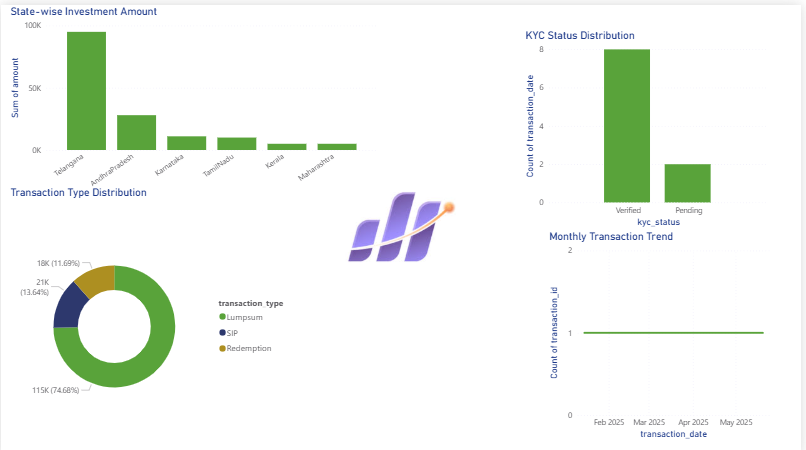

This screenshot's page, from the dashboard's own definition file:
{"tool":"powerbi","page":{"name":"Investor Analytics","canvas":[1280,720],"ordinal":2},"visuals":[{"type":"clusteredColumnChart","title":"State-wise Investment Amount","fields":{"Category":["investor_transactions_clean.state"],"Y":["Sum(investor_transactions_clean.amount)"]},"box":[10,0,598,328],"z":0},{"type":"donutChart","title":"Transaction Type Distribution","fields":{"Category":["investor_transactions_clean.transaction_type"],"Y":["Sum(investor_transactions_clean.amount)"]},"box":[10,290,462,430],"z":1000},{"type":"clusteredColumnChart","title":"KYC Status Distribution","fields":{"Category":["investor_transactions_clean.kyc_status"],"Y":["CountNonNull(investor_transactions_clean.transaction_date)"]},"box":[834,38,398,322],"z":2000},{"type":"lineChart","title":"Monthly Transaction Trend","fields":{"Y":["CountNonNull(investor_transactions_clean.transaction_id)"],"Category":["investor_transactions_clean.transaction_date"]},"box":[872,360,378,340],"z":3000}]}

Visuals, with their boxes in screenshot pixels (x1, y1, x2, y2), scaled from the page's 1280x720 canvas onto the 806x450 screenshot:
"State-wise Investment Amount" clusteredColumnChart: detection(6, 0, 383, 205)
"Transaction Type Distribution" donutChart: detection(6, 181, 297, 449)
"KYC Status Distribution" clusteredColumnChart: detection(525, 24, 776, 225)
"Monthly Transaction Trend" lineChart: detection(549, 225, 787, 438)
